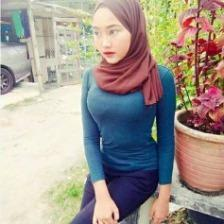Non Syar-i: (90, 0, 164, 107)
